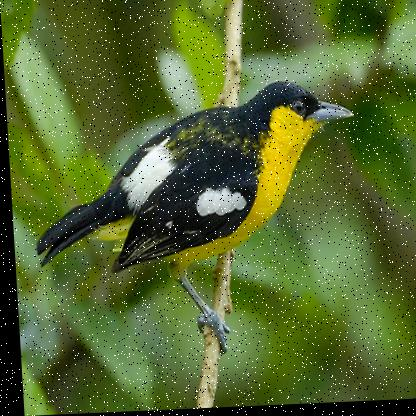Burung: (25, 81, 362, 362)
